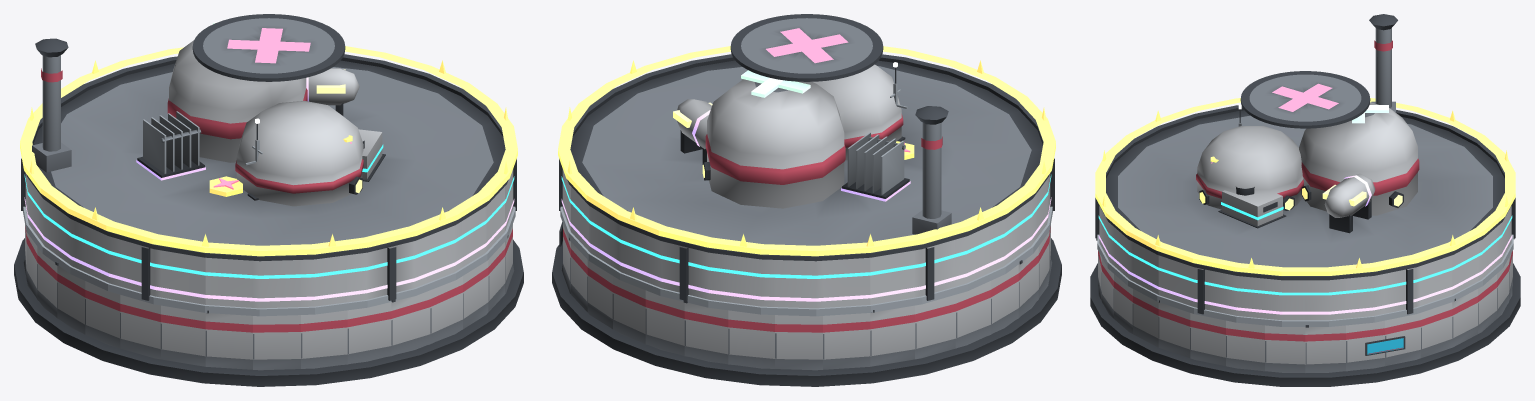
File: bio_lab_s.glb
The picture shows the model from 3 angles, left to right: view 1: azimuth 30°, elevation 25°; view 2: azimuth 150°, elevation 25°; view 3: azimuth 270°, elevation 25°; orthographic projection. The views are drawn at different scales.
Parts seen in each view (by area): view 1: Roof, Base, L4, Wall_20, Wall_21, Wall_22, Wall_19, Wall_23, Upper_21, Upper_20, Wall_18, Upper_23 (+36 smaller); view 2: Roof, Base, L4, Wall_11, Wall_10, Wall_09, Wall_08, Wall_12, Upper_10, Upper_11, Wall_13, Upper_08 (+34 smaller); view 3: Roof, Base, L4, L3, Wall_00, Wall_31, Wall_30, Wall_29, Upper_00, Upper_31, Upper_01, Upper_30 (+30 smaller).
Boxes of the visible parts, x1,y1,x2,y2 form: Roof: [32, 14, 505, 256]; Base: [14, 238, 523, 386]; L4: [136, 68, 359, 180]; Wall_20: [205, 310, 252, 369]; Wall_21: [253, 315, 300, 370]; Wall_22: [301, 310, 347, 368]; Wall_19: [160, 305, 205, 366]; Wall_23: [347, 302, 391, 364]; Upper_21: [253, 255, 300, 308]; Upper_20: [205, 253, 252, 307]; Wall_18: [120, 295, 160, 359]; Upper_23: [347, 242, 392, 302]; Roof: [570, 14, 1043, 256]; Base: [552, 238, 1061, 386]; L4: [673, 99, 910, 201]; Wall_11: [823, 313, 870, 369]; Wall_10: [775, 315, 822, 370]; Wall_09: [728, 310, 774, 368]; Wall_08: [683, 300, 728, 364]; Wall_12: [870, 305, 914, 366]; Upper_10: [775, 255, 822, 308]; Upper_11: [823, 253, 870, 307]; Wall_13: [915, 295, 955, 359]; Upper_08: [683, 242, 728, 302]; Roof: [1106, 14, 1504, 276]; Base: [1090, 263, 1520, 386]; L4: [1322, 173, 1375, 233]; L3: [1218, 187, 1286, 228]; Wall_00: [1305, 325, 1345, 372]; Wall_31: [1265, 325, 1305, 372]; Wall_30: [1226, 320, 1264, 371]; Wall_29: [1190, 313, 1225, 366]; Upper_00: [1305, 275, 1345, 320]; Upper_31: [1265, 275, 1305, 320]; Upper_01: [1345, 270, 1384, 318]; Upper_30: [1226, 270, 1265, 318].
Size of the model in its own units: 10.53 by 5.7 by 10.53.
